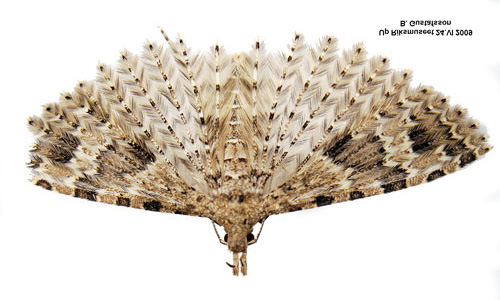Alucitidae: (24, 21, 495, 283)
moth: (26, 23, 497, 285)
